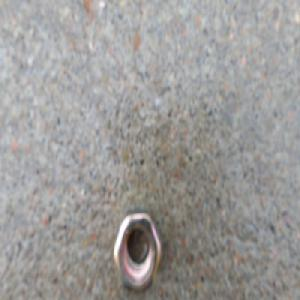Nut: (112, 205, 164, 295)
